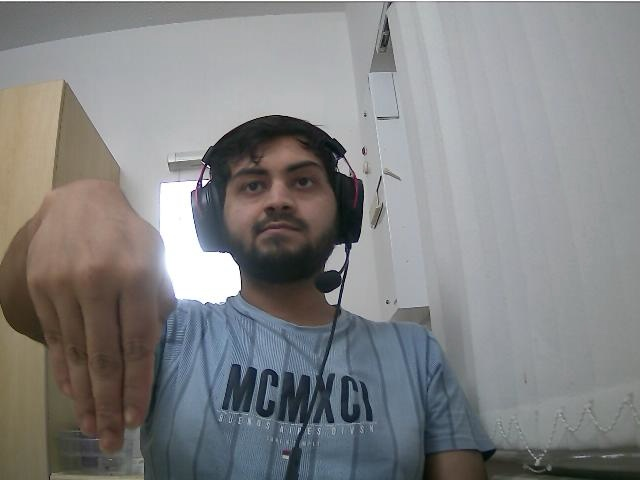down: (27, 180, 160, 453)
